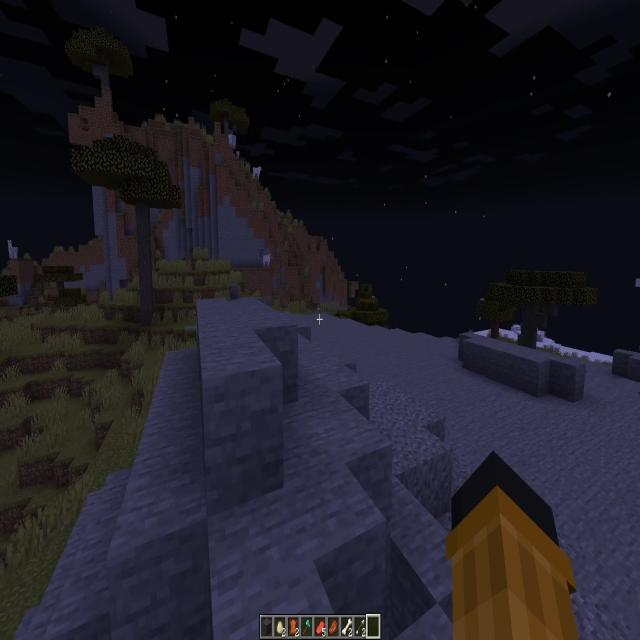Alpaca: (8, 240, 18, 259)
Sheep: (253, 165, 261, 179), (263, 255, 271, 267), (228, 135, 235, 148)
Skeleton: (237, 152, 240, 162)
